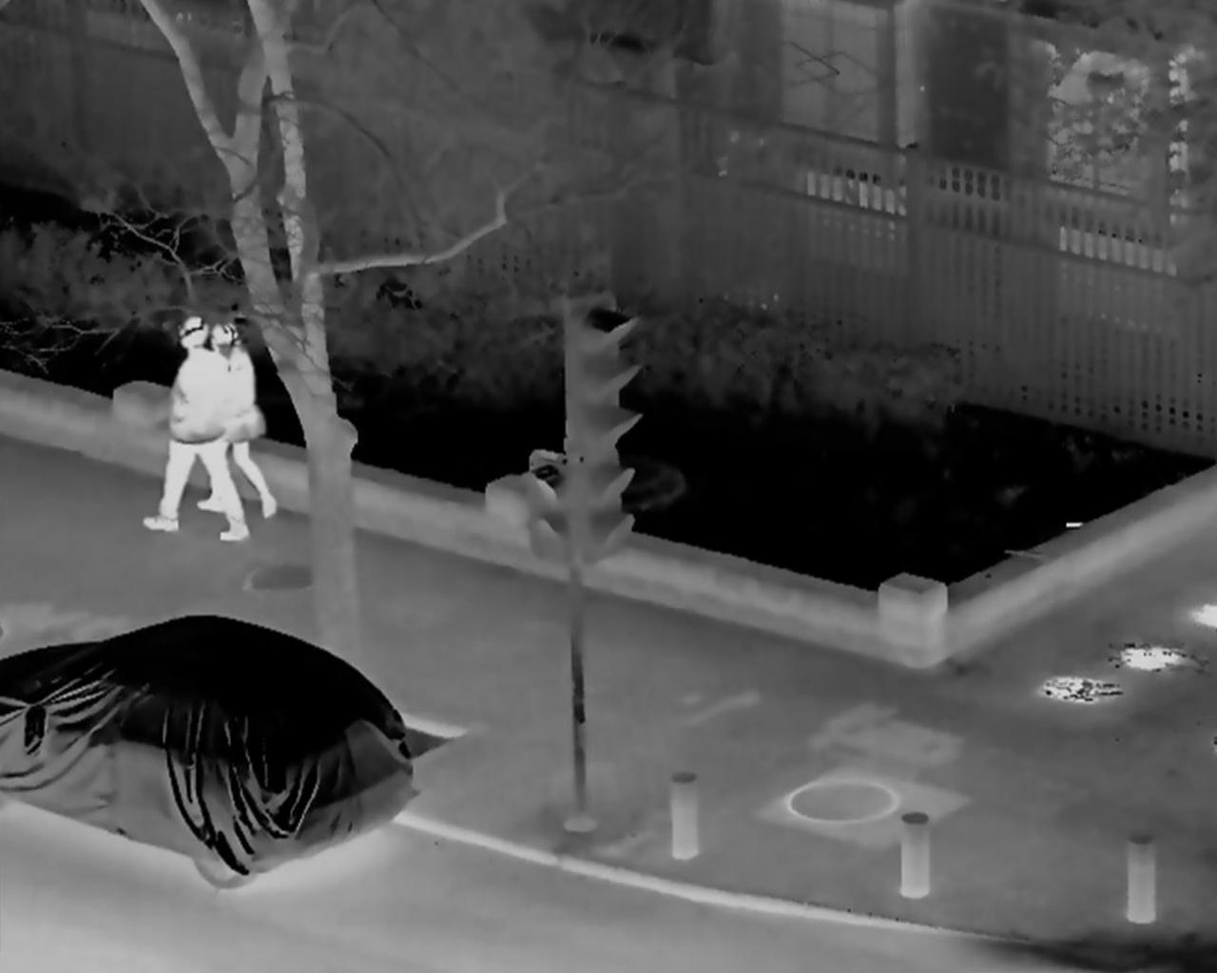person: (140, 317, 245, 539), (193, 326, 281, 525)
